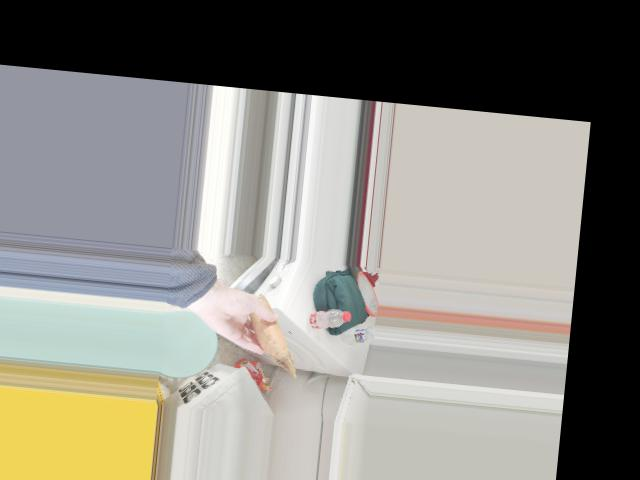sweet_potato: (247, 306, 290, 357)
